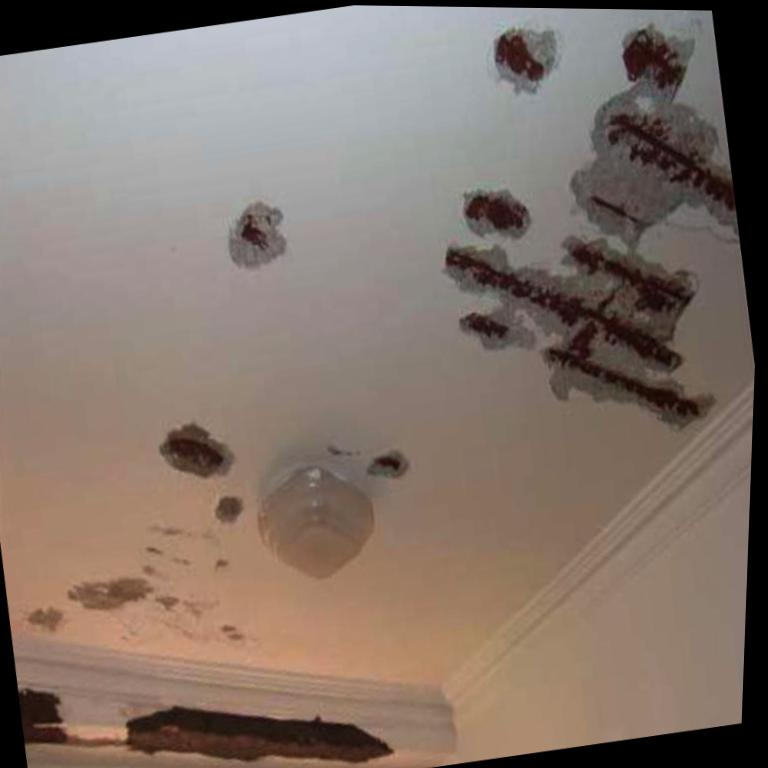exposed_rebar: (447, 248, 680, 368), (544, 320, 711, 423), (610, 113, 736, 211), (566, 238, 687, 311), (624, 30, 682, 85), (495, 34, 544, 81), (466, 195, 527, 230), (166, 438, 220, 461), (460, 314, 509, 338), (241, 215, 268, 250), (378, 456, 400, 468)
spalling: (445, 236, 714, 424), (571, 25, 739, 250), (127, 705, 392, 762), (494, 28, 557, 94), (160, 423, 234, 477), (228, 201, 287, 268), (464, 189, 530, 239), (19, 688, 67, 742), (367, 450, 409, 477), (216, 497, 243, 522)
